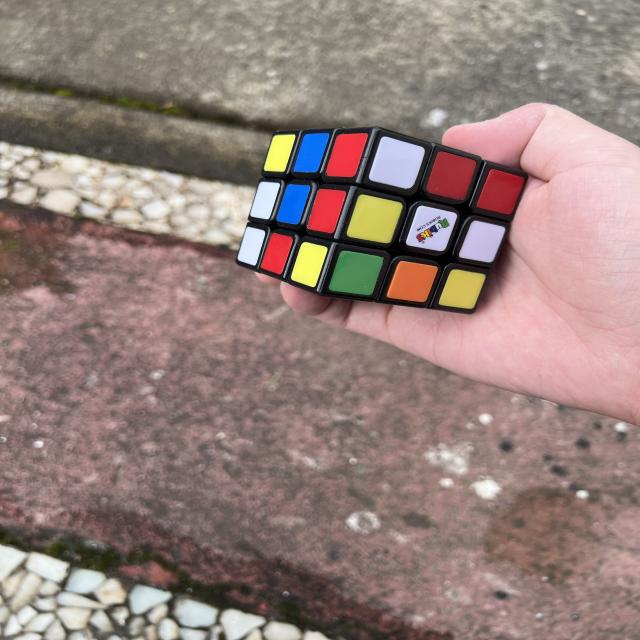blue: (291, 125, 331, 179)
center: (404, 202, 459, 256), (275, 178, 312, 229)
green: (328, 248, 384, 299)
orange: (385, 253, 439, 311)
red: (475, 165, 526, 221), (425, 149, 477, 203), (324, 126, 368, 184), (305, 182, 348, 238), (259, 230, 295, 276)
white: (367, 134, 426, 193), (456, 216, 507, 269), (248, 176, 282, 224), (235, 224, 267, 267)
yellow: (346, 192, 403, 247), (437, 263, 486, 316), (288, 238, 329, 289), (262, 128, 297, 176)
